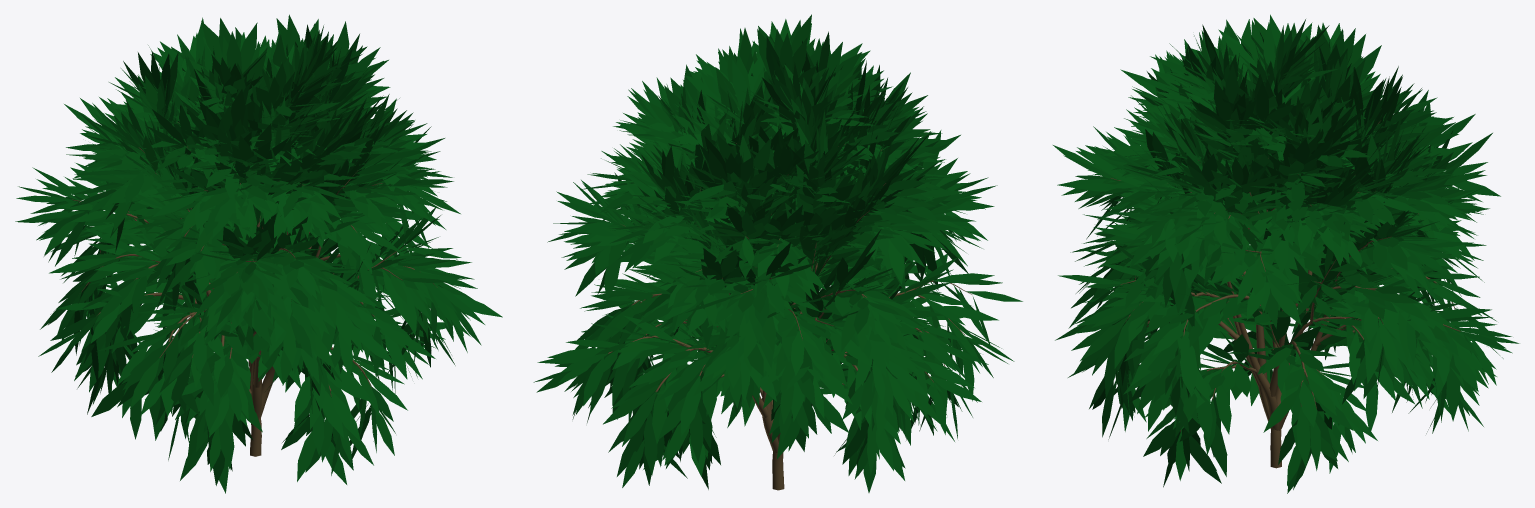
The model's file is Bush_good.glb.
3 views of the same model, side by side, from view 1: azimuth 30°, elevation 25°; view 2: azimuth 150°, elevation 25°; view 3: azimuth 270°, elevation 25° (orthographic).
Visible parts, largest first — view 1: leaves, tree; view 2: leaves, tree; view 3: leaves, tree.
Boxes of the visible parts, bbox=[...] form: leaves: bbox=[15, 14, 502, 493]; tree: bbox=[72, 91, 437, 456]; leaves: bbox=[533, 14, 1022, 492]; tree: bbox=[608, 143, 972, 490]; leaves: bbox=[1053, 14, 1519, 493]; tree: bbox=[1110, 120, 1460, 468].
Bounding box in the file's own units: 2.56 × 2.77 × 2.65.
